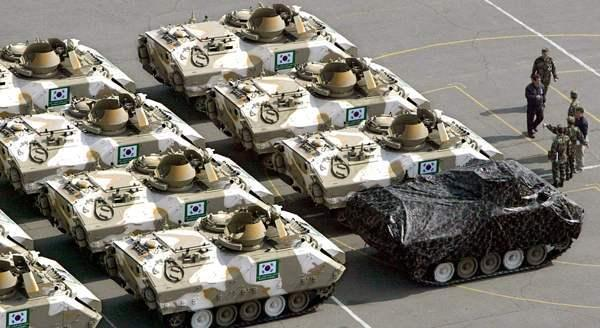MIL_IFV: (345, 158, 586, 288), (106, 209, 346, 326), (40, 148, 272, 232), (272, 110, 502, 186), (0, 91, 203, 166), (202, 58, 430, 123), (138, 3, 356, 64), (0, 36, 135, 97)
